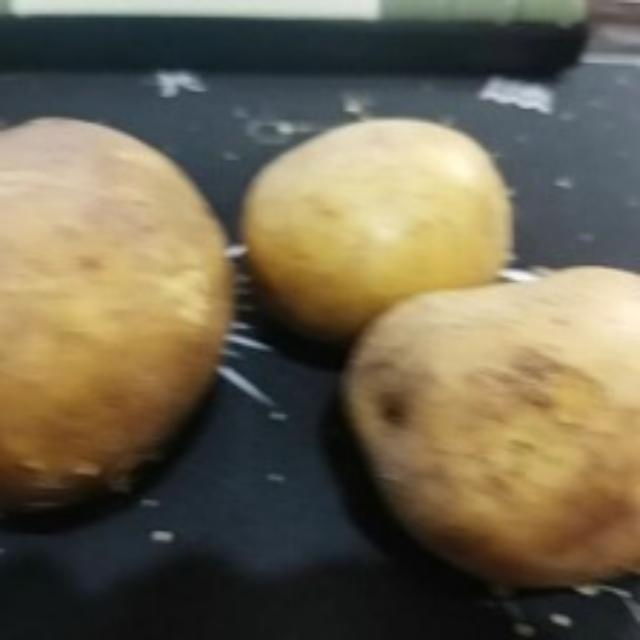Damaged potato: (336, 264, 640, 596), (4, 118, 244, 522)
Potato: (243, 109, 529, 337)
